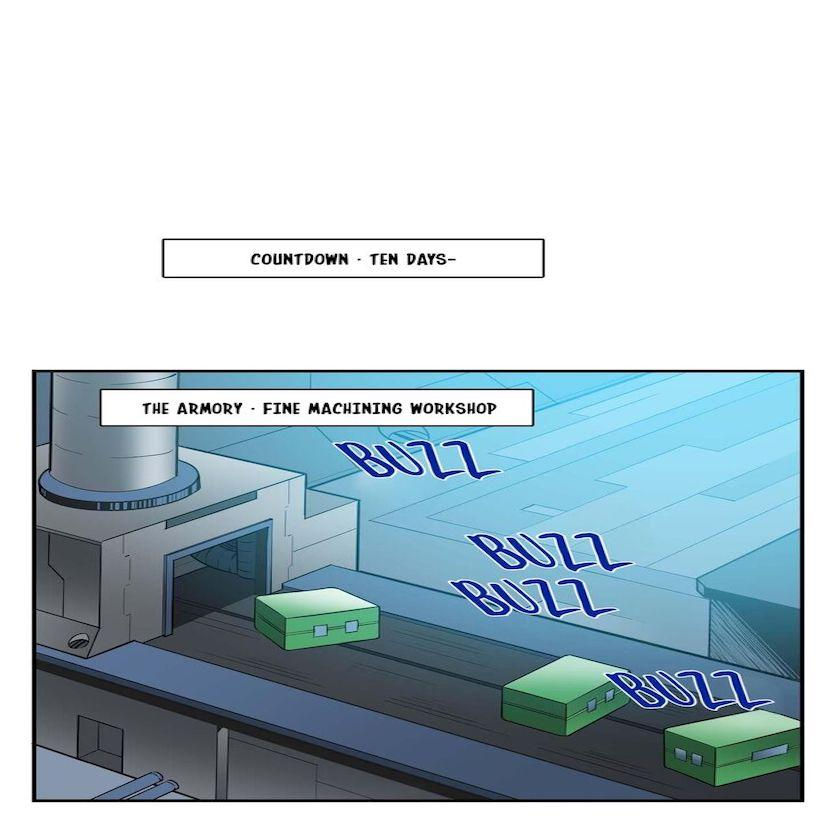Bubble: (98, 386, 537, 430), (158, 236, 548, 281)
